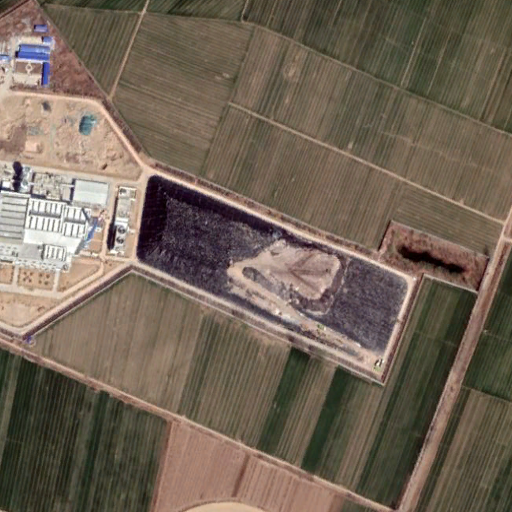lf: (135, 169, 415, 384)
